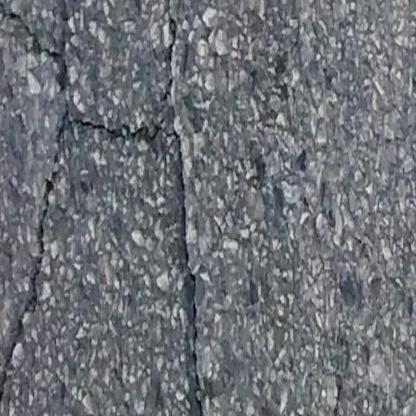Cracks: (0, 0, 208, 416), (161, 0, 183, 108), (60, 0, 75, 28)
